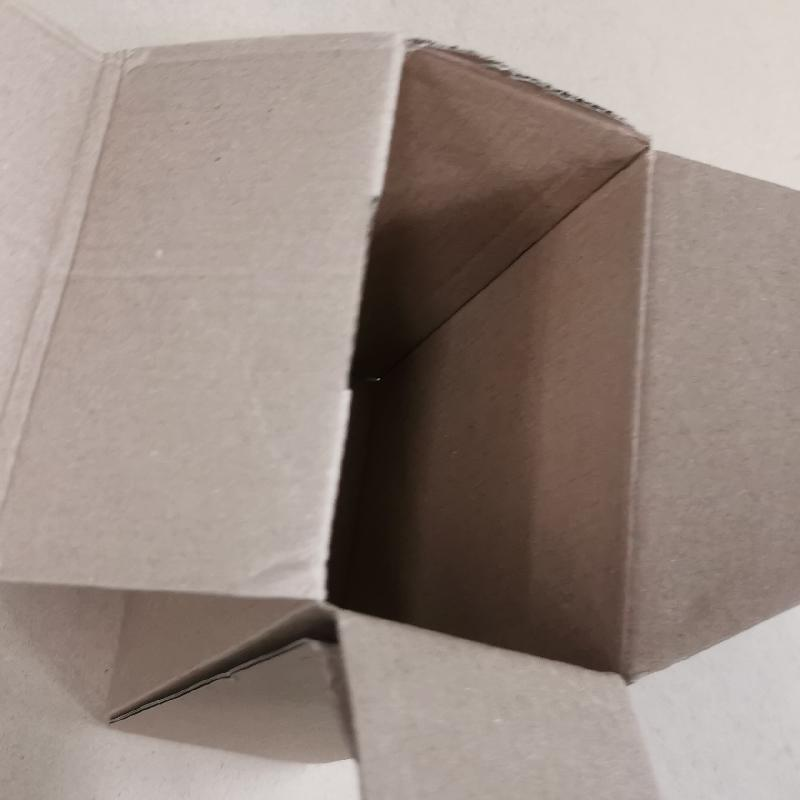boxes: (5, 0, 799, 799)
